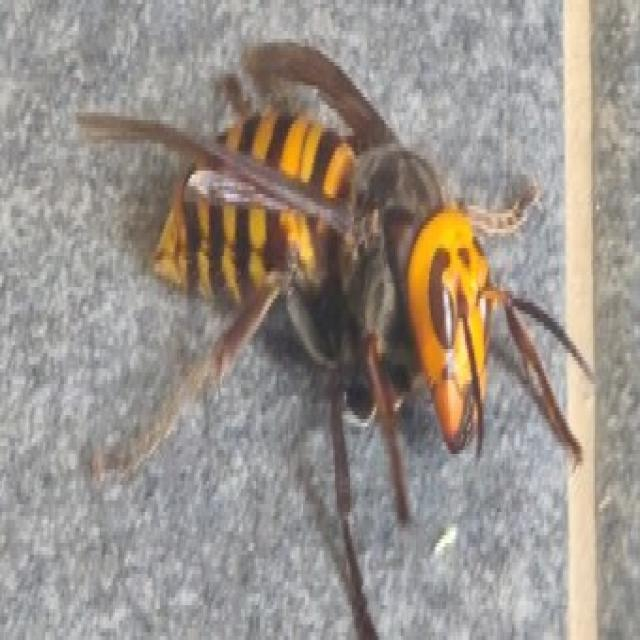Wasp: (78, 33, 598, 639)
